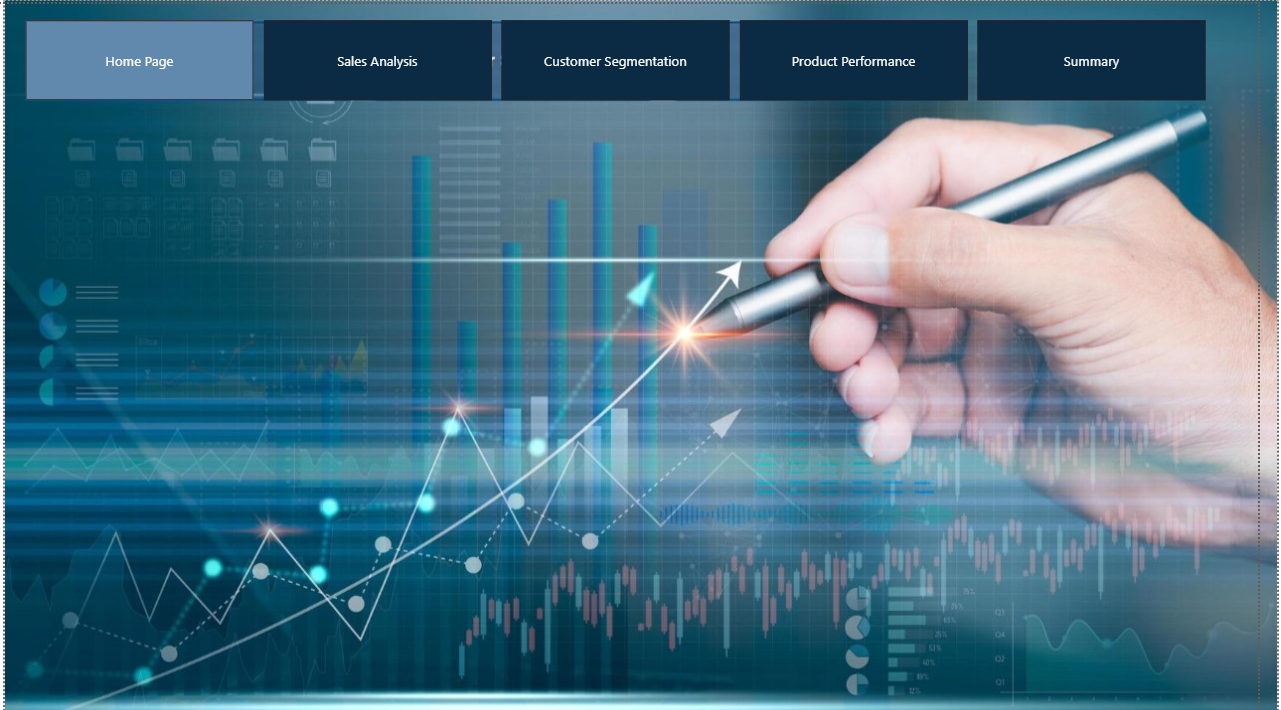

What the dashboard file says about the page in this screenshot:
{"tool":"powerbi","page":{"name":"Home Page","canvas":[1280,720],"ordinal":0},"visuals":[{"type":"pageNavigator","box":[48,16,1184,80],"z":0}]}

Visuals, with their boxes in screenshot pixels (x1, y1, x2, y2), scaled from the page's 1280x720 canvas onto the 1281x710 screenshot:
pageNavigator: <box>48,16,1233,95</box>
